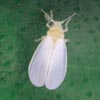whitefly: (25, 6, 79, 89)
